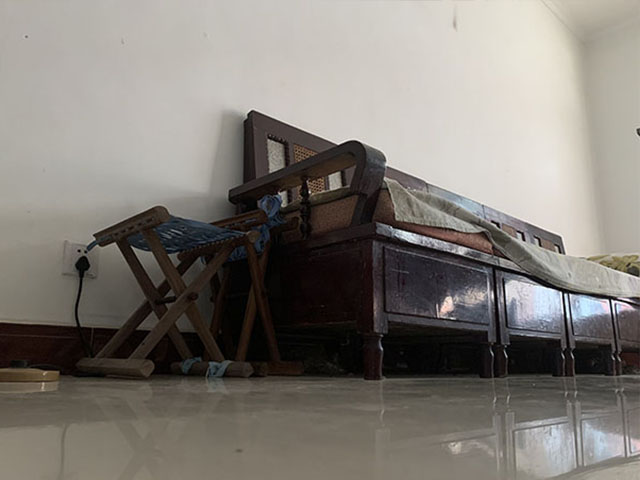sofa: (226, 109, 638, 380)
stool: (96, 206, 252, 379)
wire: (71, 254, 94, 373)
